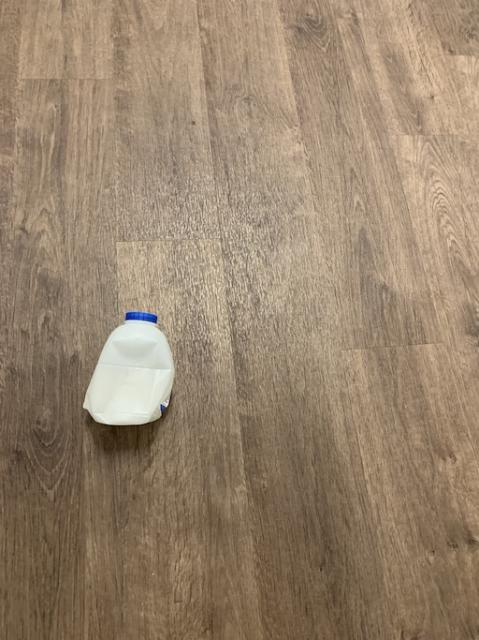plastic: (82, 311, 172, 424)
